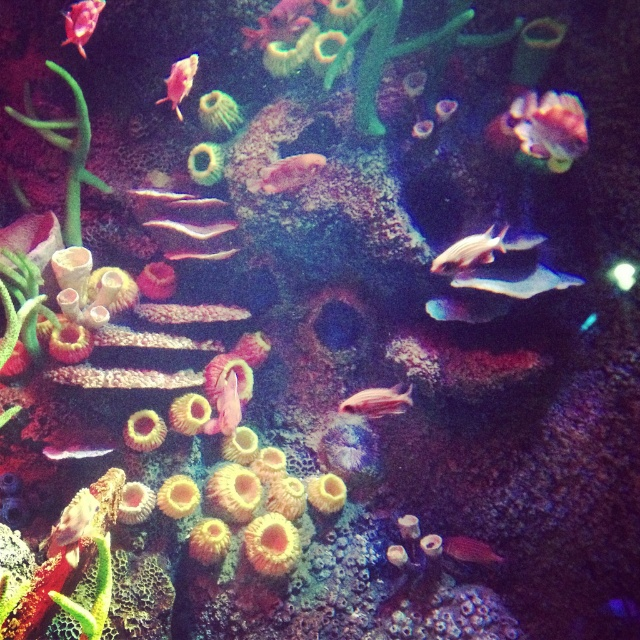Fish: (429, 221, 511, 279), (336, 385, 418, 420)
